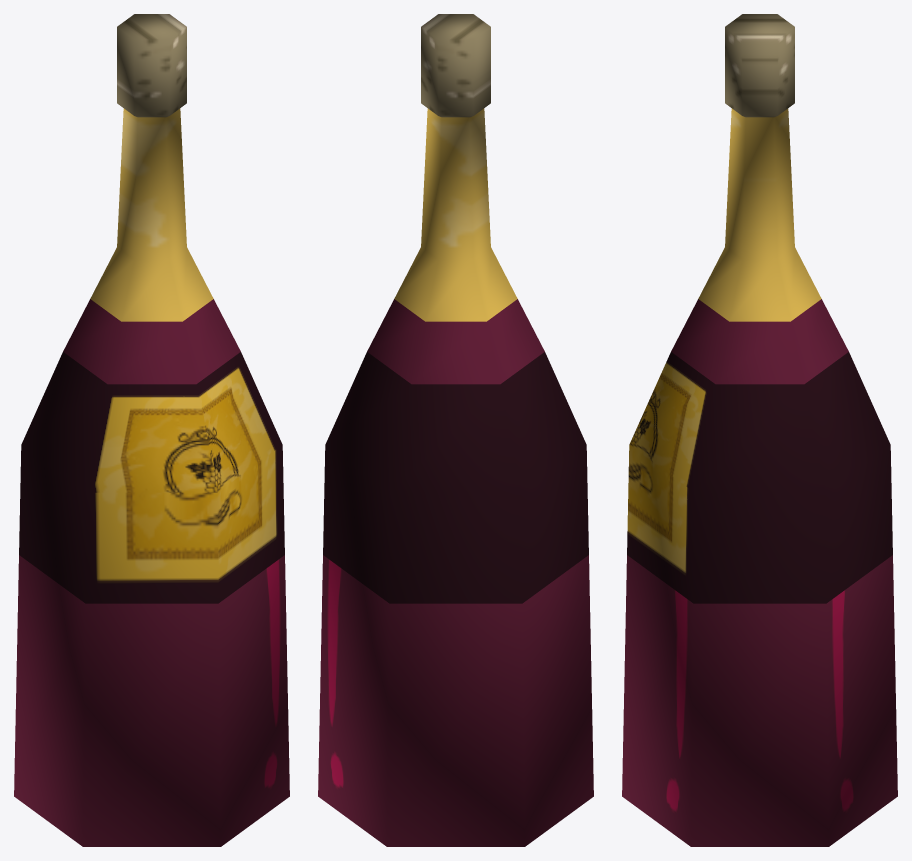
Rendered from wine.fbx.
3 views of the same model, side by side, from view 1: azimuth 30°, elevation 25°; view 2: azimuth 150°, elevation 25°; view 3: azimuth 270°, elevation 25° (orthographic).
Parts seen in each view (by area): view 1: Circle.001; view 2: Circle.001; view 3: Circle.001.
Boxes of the visible parts, x1=… form: Circle.001: x1=14, y1=14, x2=289, y2=846; Circle.001: x1=318, y1=14, x2=593, y2=846; Circle.001: x1=622, y1=14, x2=897, y2=846.
Bounding box in the file's own units: 11.29 × 40.13 × 13.04.
